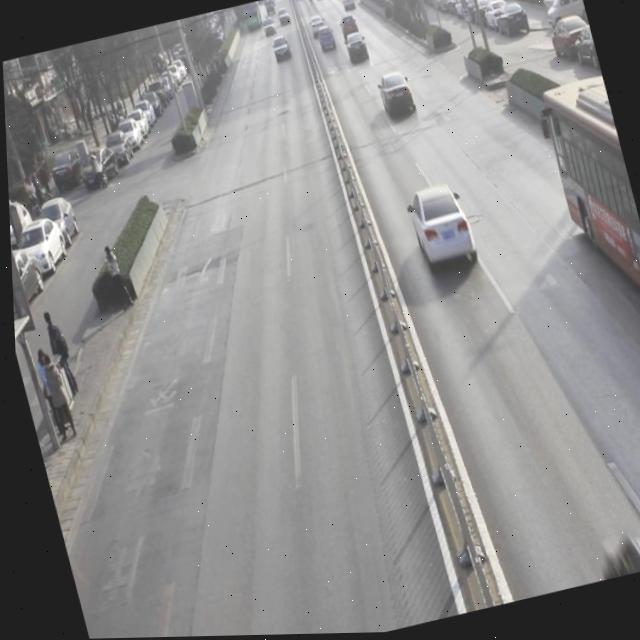car: (400, 181, 480, 279), (373, 69, 417, 125), (341, 30, 372, 70), (269, 35, 293, 65), (315, 26, 338, 57)
van: (535, 76, 640, 348)
